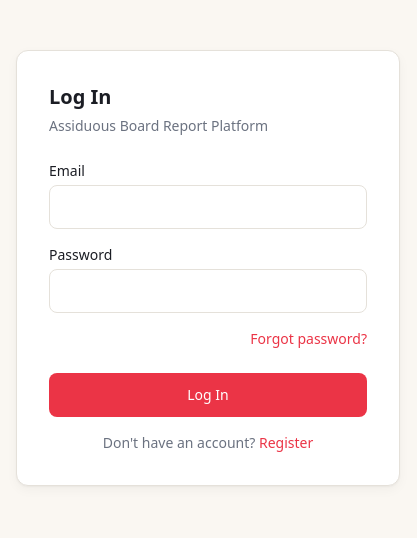
Test: LoginView › returns to the credentials form via Back to login
Type "jane@example.com" into the field labelled "Email" at {"x": 208, "y": 207}, box [49,185,367,229]
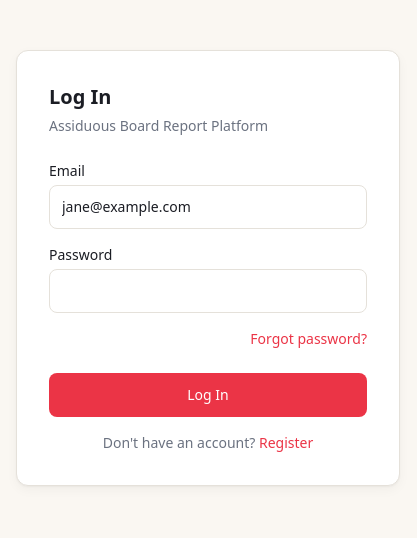
Type "password123" into the password field labelled "Password" at {"x": 208, "y": 291}, box [49,269,367,313]
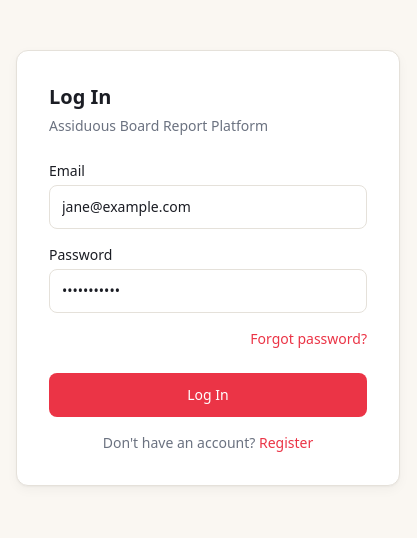
Click the button "Log In" at {"x": 208, "y": 395}, box [49,373,367,417]
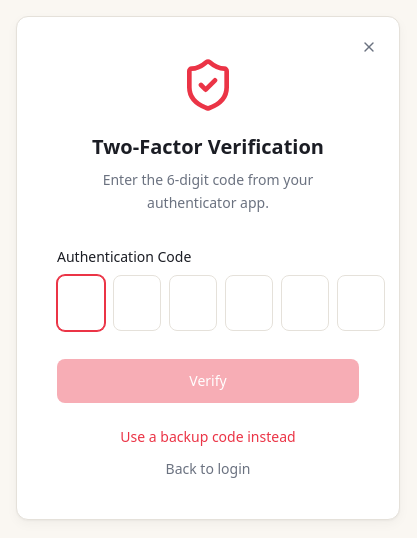
Result: the heading "Two-Factor Verification" is shown at [92,133,324,160]
Click the button "Back to login" at {"x": 208, "y": 469}, box [166,459,250,479]
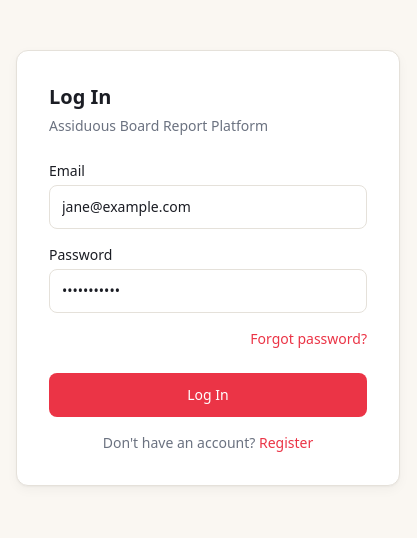
Result: the heading "Log In" is shown at [49,83,112,110]
